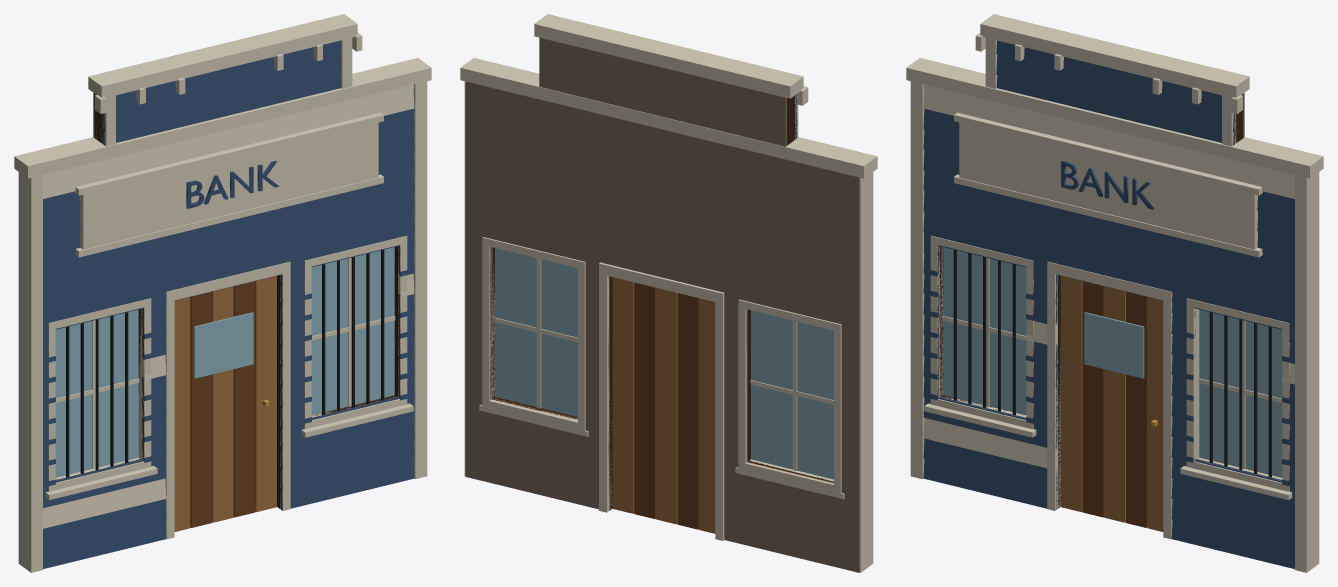
File: SM_Facade_Bank.obj
The picture shows the model from 3 angles, left to right: view 1: azimuth 30°, elevation 25°; view 2: azimuth 150°, elevation 25°; view 3: azimuth 330°, elevation 25°; orthographic projection.
Visible parts, largest first — view 1: SM_Facade_Bank; view 2: SM_Facade_Bank; view 3: SM_Facade_Bank.
Part boxes in pixels (left/top/right/bottom): SM_Facade_Bank: left=14, top=14, right=431, bottom=572; SM_Facade_Bank: left=460, top=14, right=877, bottom=572; SM_Facade_Bank: left=906, top=14, right=1323, bottom=572.
Size of the model in its own units: 4.1 by 4.56 by 0.305.
